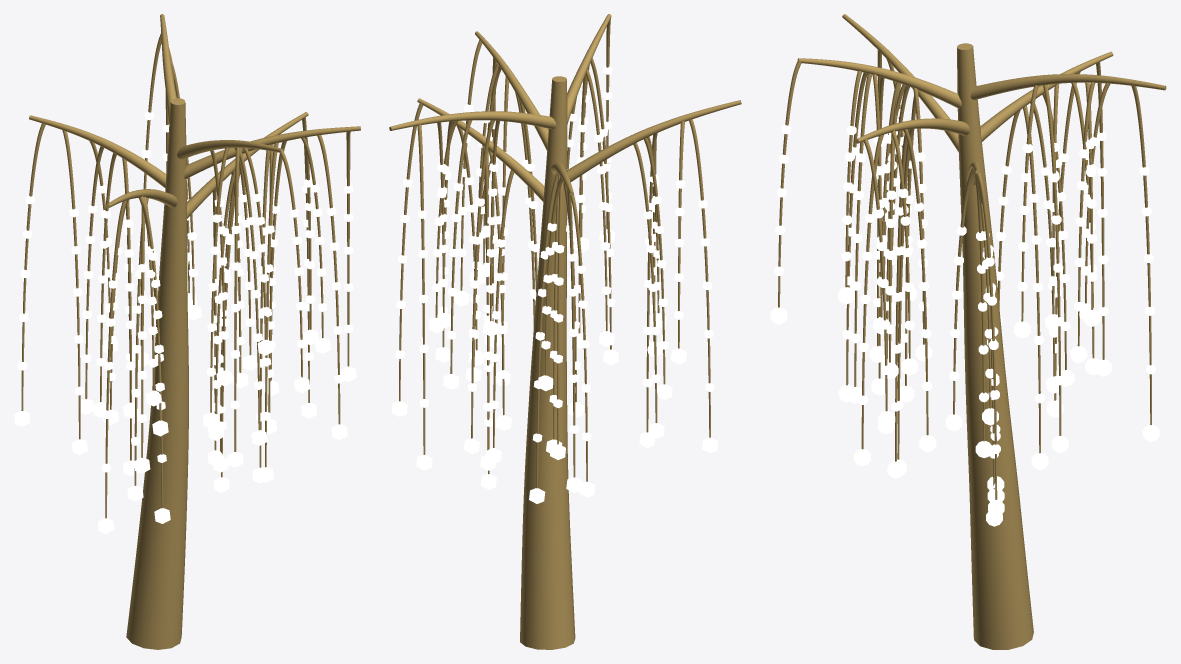
File: tree_weeping.glb
The picture shows the model from 3 angles, left to right: view 1: azimuth 30°, elevation 25°; view 2: azimuth 150°, elevation 25°; view 3: azimuth 270°, elevation 25°; orthographic projection. The views are drawn at different scales.
Visible parts, largest first — view 1: weeping, jewels; view 2: weeping, jewels; view 3: weeping, jewels.
Part boxes in pixels (x1,y1,x2,y2): weeping: (21, 14, 360, 649); jewels: (14, 111, 356, 533); weeping: (389, 14, 741, 649); jewels: (391, 66, 718, 503); weeping: (778, 14, 1166, 649); jewels: (770, 108, 1159, 526).
Size of the model in its own units: 2.99 by 5.63 by 3.38.
